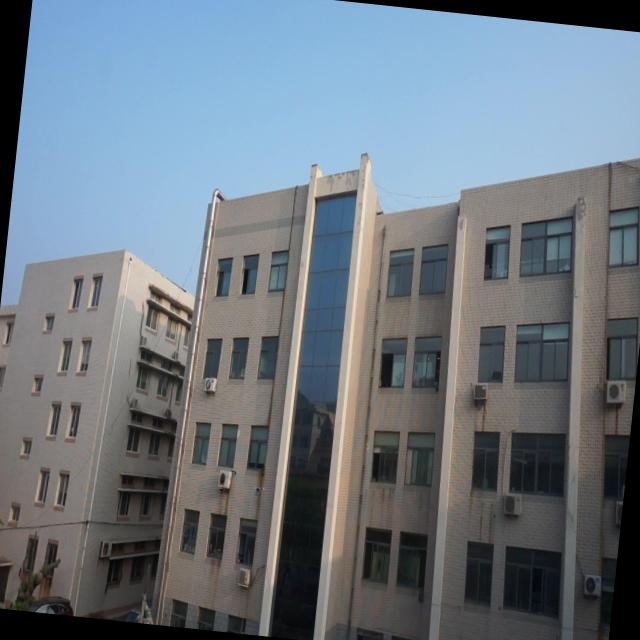drone: (252, 483, 266, 497)
